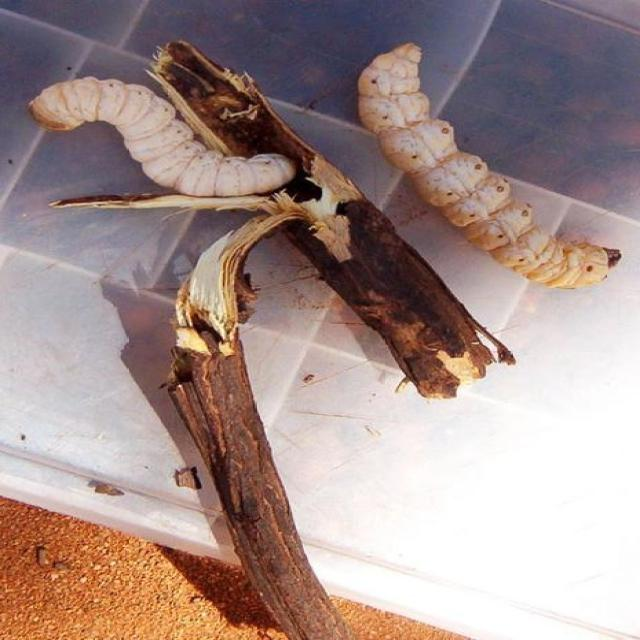grub: (353, 42, 623, 303), (30, 76, 300, 230)
